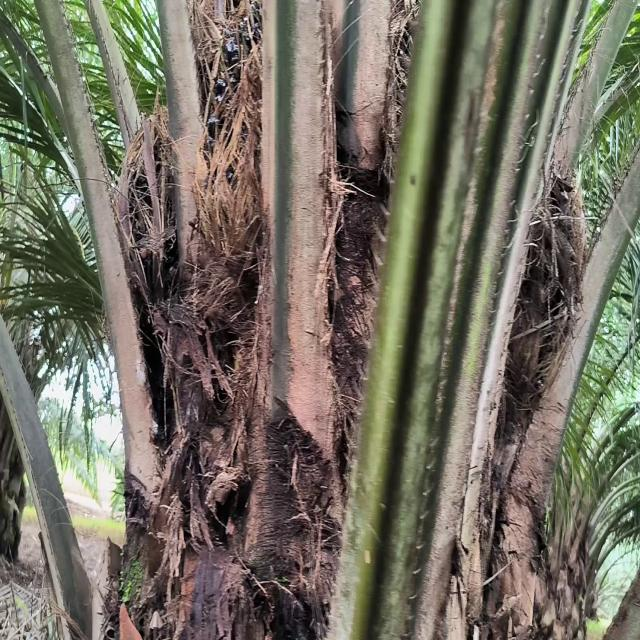palm-oil: (192, 9, 270, 303)
